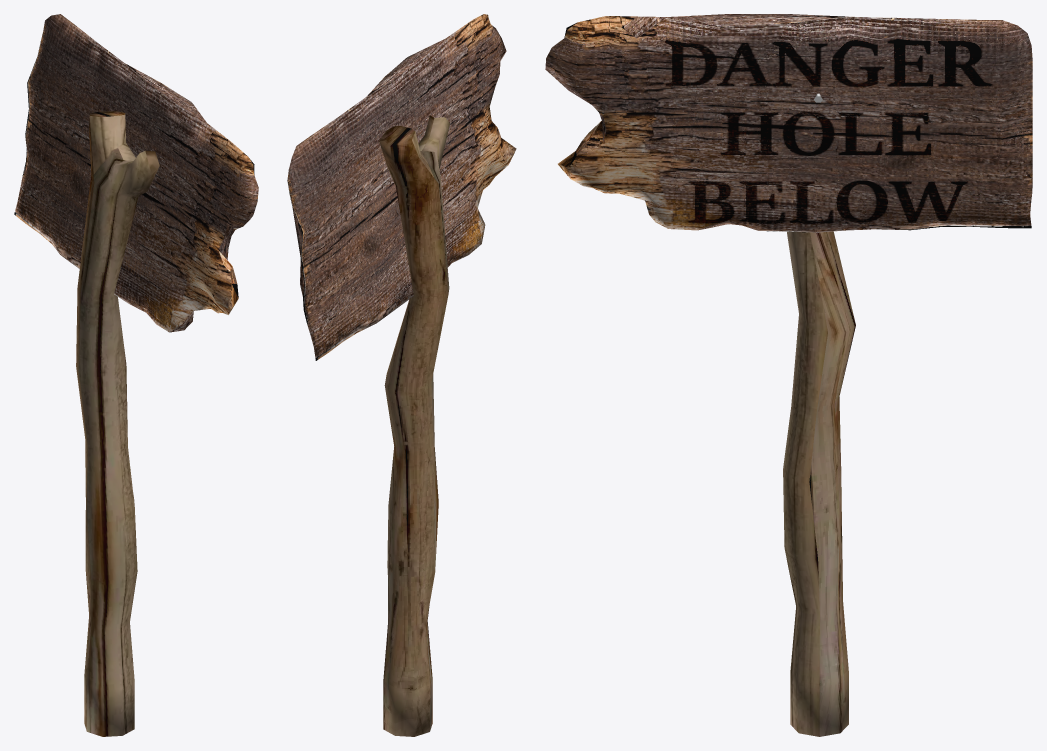
The model's file is WoodSign.gltf.
3 renders of one model, left to right at view 1: azimuth 30°, elevation 25°; view 2: azimuth 150°, elevation 25°; view 3: azimuth 270°, elevation 25°, orthographic. The views are drawn at different scales.
Parts seen in each view (by area): view 1: Sign, Stick; view 2: Sign, Stick; view 3: Sign, Stick.
Boxes of the visible parts, x1,y1,x2,y2 form: Sign: (14, 14, 258, 332); Stick: (76, 111, 159, 736); Sign: (287, 14, 516, 360); Stick: (379, 115, 449, 736); Sign: (545, 14, 1032, 232); Stick: (783, 231, 855, 736).
Bounding box in the file's own units: 0.1321 × 1.06 × 0.6476.
